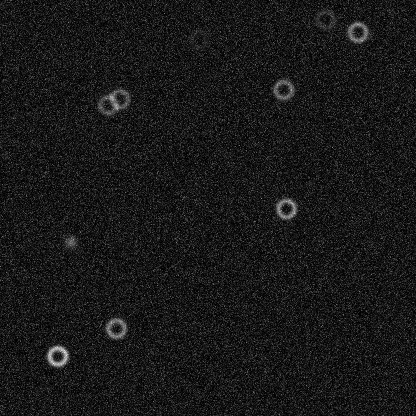Ring: (107, 86, 131, 110), (271, 77, 295, 101), (274, 196, 298, 220), (186, 27, 210, 51), (345, 20, 369, 44), (45, 343, 69, 367), (104, 316, 128, 340), (96, 92, 120, 116), (313, 7, 337, 31)
Spot: (62, 234, 78, 250)
